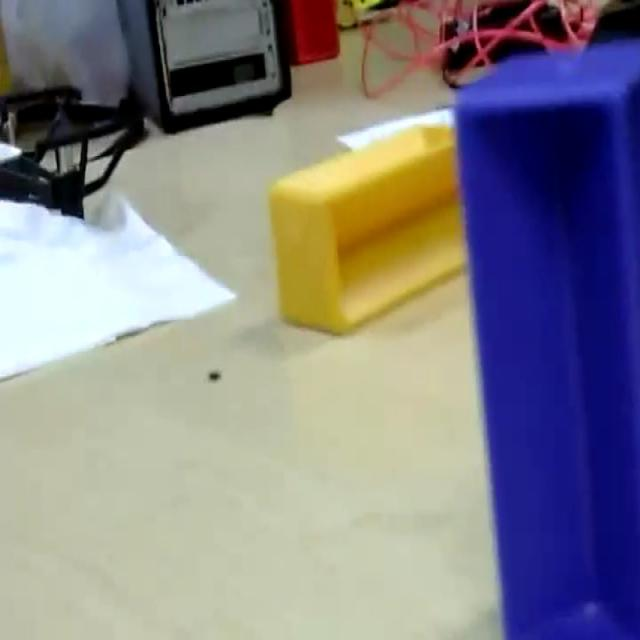blue_block: (453, 36, 639, 635)
yellow_block: (268, 113, 467, 335)
